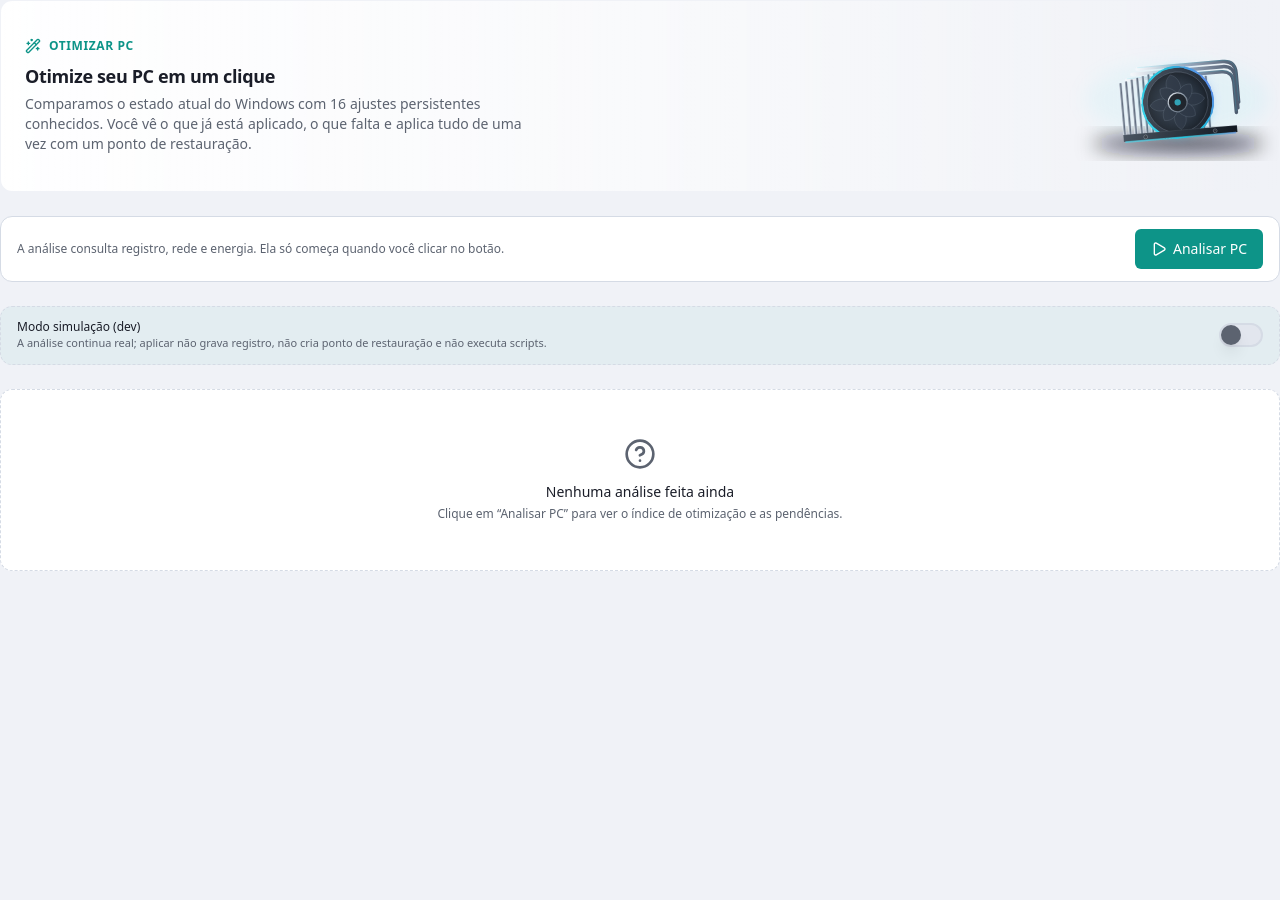
Scenario: OptimizePcPage › mostra o modo simulação só em dev e não grava nada ao ligá-lo
Click the switch named "Modo simulação" at (1241, 335), box [1219,323,1263,347]
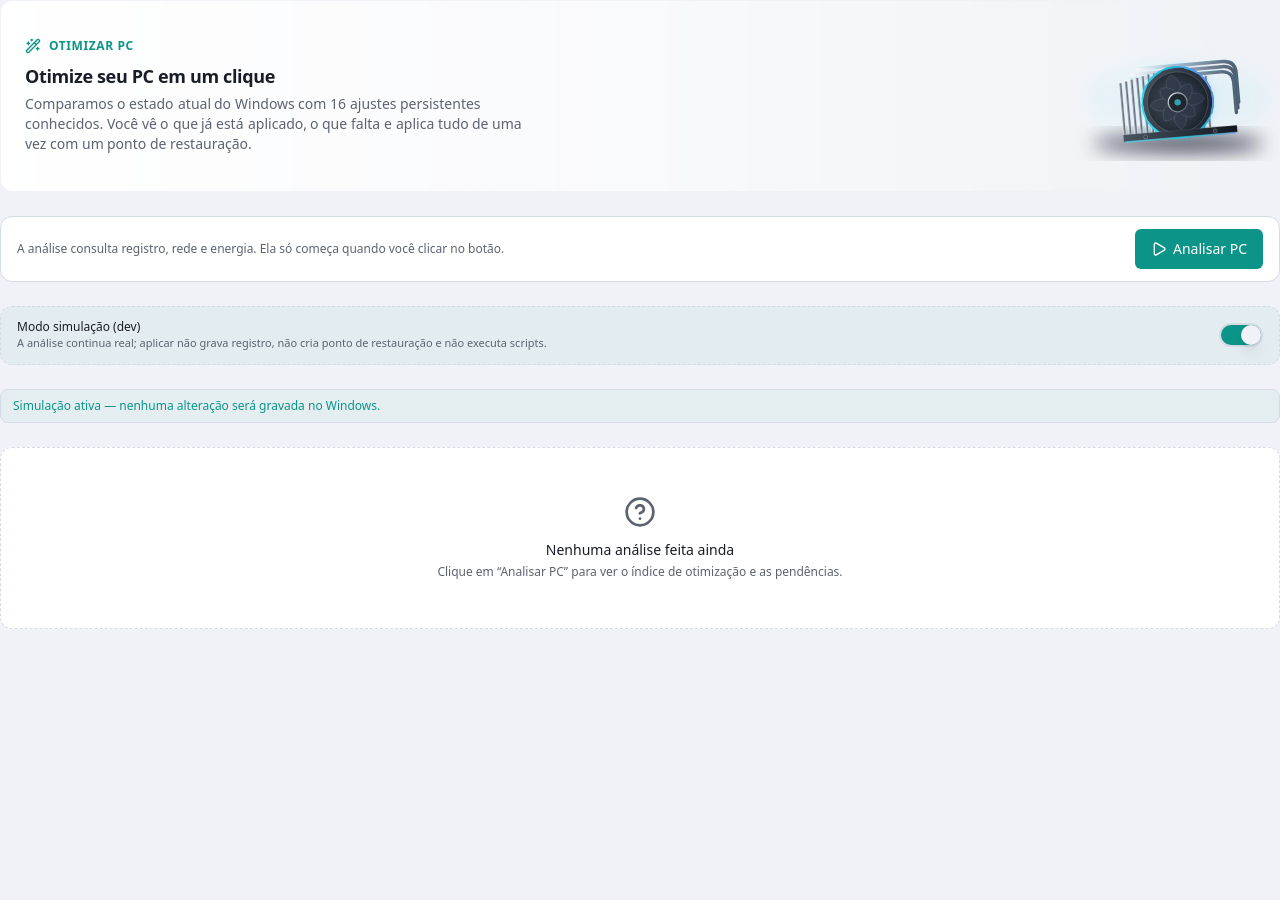
Check: the button "Analisar PC" is shown, box [1135,229,1263,269]
Check: the text "Simulação ativa — nenhuma alteração será gravada no Windows." is shown, box [0,388,1279,422]
